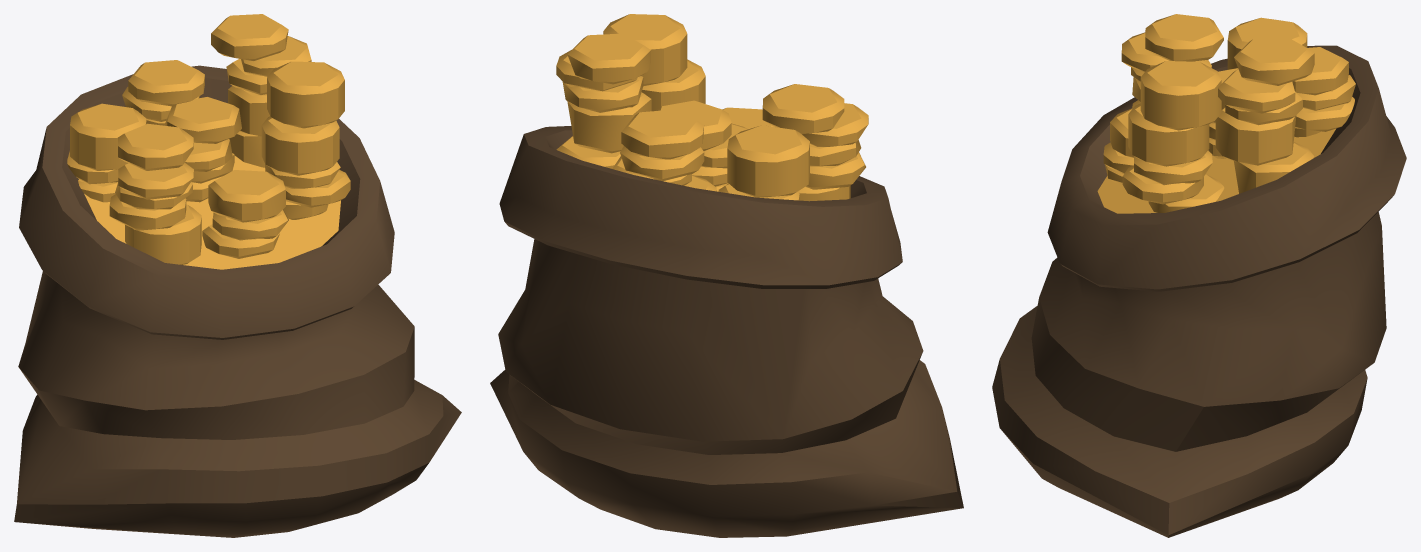
Rendered from gold-bag.glb.
3 renders of one model, left to right at view 1: azimuth 30°, elevation 25°; view 2: azimuth 150°, elevation 25°; view 3: azimuth 270°, elevation 25°, orthographic. The views are drawn at different scales.
Visible parts, largest first — view 1: Prop_GoldBag; view 2: Prop_GoldBag; view 3: Prop_GoldBag.
Boxes of the visible parts, bbox=[...] form: Prop_GoldBag: bbox=[14, 14, 461, 537]; Prop_GoldBag: bbox=[490, 14, 963, 537]; Prop_GoldBag: bbox=[992, 14, 1406, 537].
Bounding box in the file's own units: 0.7578 × 0.6977 × 0.5902.
1 material, 1 textured.
